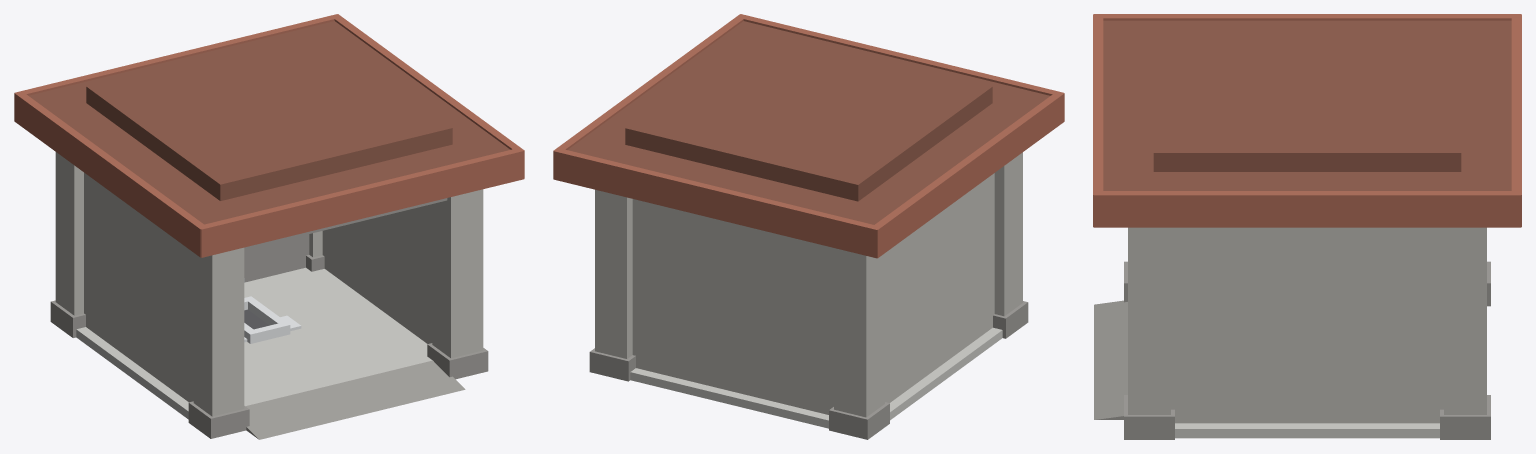
The model's file is bano.glb.
The picture shows the model from 3 angles, left to right: view 1: azimuth 30°, elevation 25°; view 2: azimuth 150°, elevation 25°; view 3: azimuth 270°, elevation 25°; orthographic projection. The views are drawn at different scales.
Visible parts, largest first — view 1: BanoTecho, BanoParedes-col, BanoFloor-col, BanoPilares-col, BanoInodoro; view 2: BanoTecho, BanoParedes-col, BanoPilares-col, BanoFloor-col; view 3: BanoTecho, BanoParedes-col, BanoPilares-col, BanoFloor-col.
Part boxes in pixels (x1,y1,x2,y2): BanoTecho: [14, 14, 524, 257]; BanoParedes-col: [84, 172, 447, 402]; BanoFloor-col: [76, 267, 465, 439]; BanoPilares-col: [50, 152, 488, 438]; BanoInodoro: [244, 278, 301, 343]; BanoTecho: [553, 14, 1064, 258]; BanoParedes-col: [632, 173, 994, 414]; BanoPilares-col: [589, 152, 1028, 439]; BanoFloor-col: [630, 327, 1002, 428]; BanoTecho: [1093, 14, 1521, 227]; BanoParedes-col: [1171, 227, 1443, 423]; BanoPilares-col: [1124, 227, 1490, 439]; BanoFloor-col: [1094, 300, 1439, 438].
Bounding box in the file's own units: 5.02 × 3.55 × 5.02.
